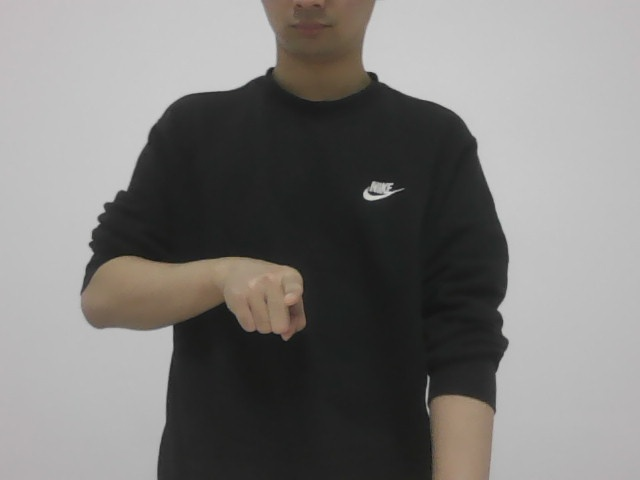you/your/this: (223, 252, 309, 346)
